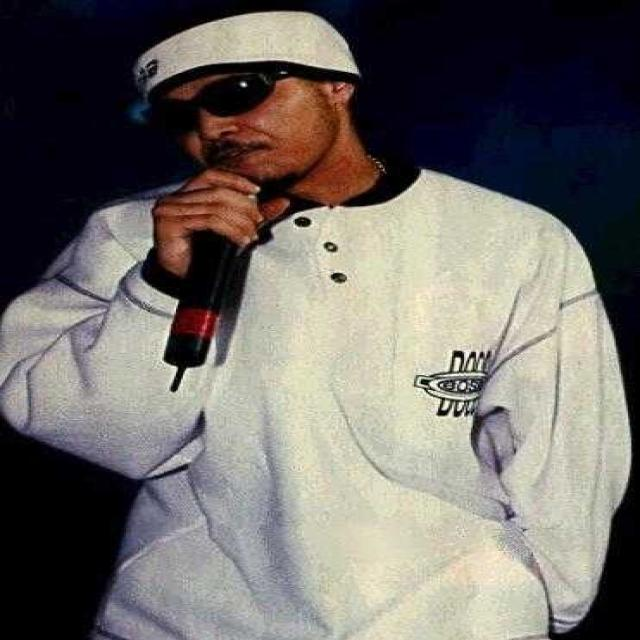microphone: (161, 171, 281, 382)
